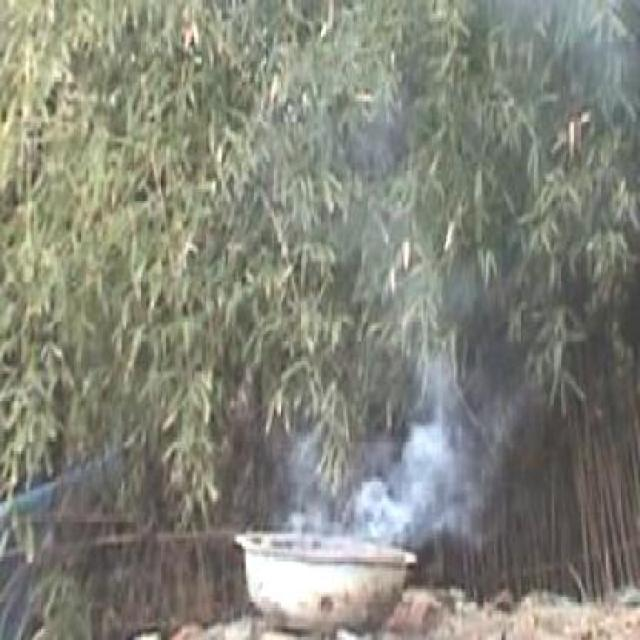Smoke: (274, 283, 528, 559)
